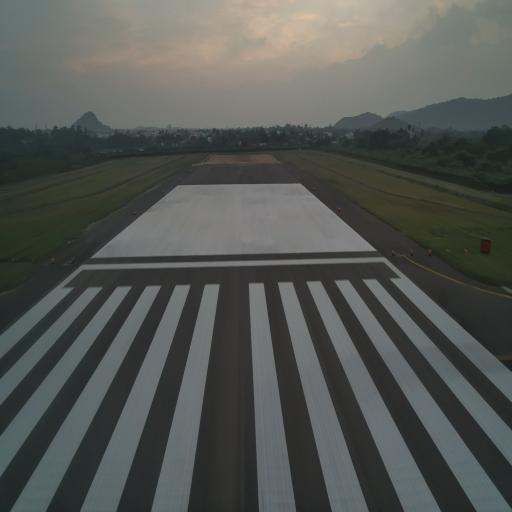off: (31, 255, 35, 263), (72, 257, 76, 262)
on: (446, 246, 452, 256), (409, 248, 415, 256), (391, 247, 395, 258), (50, 257, 56, 264), (428, 248, 433, 256), (463, 247, 468, 253)
